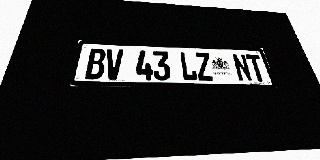3: (153, 51, 170, 80)
4: (136, 50, 153, 80)
B: (85, 48, 106, 79)
L: (179, 52, 198, 81)
N: (231, 54, 253, 81)
T: (245, 54, 268, 82)
V: (104, 49, 123, 80)
Z: (194, 52, 214, 81)
